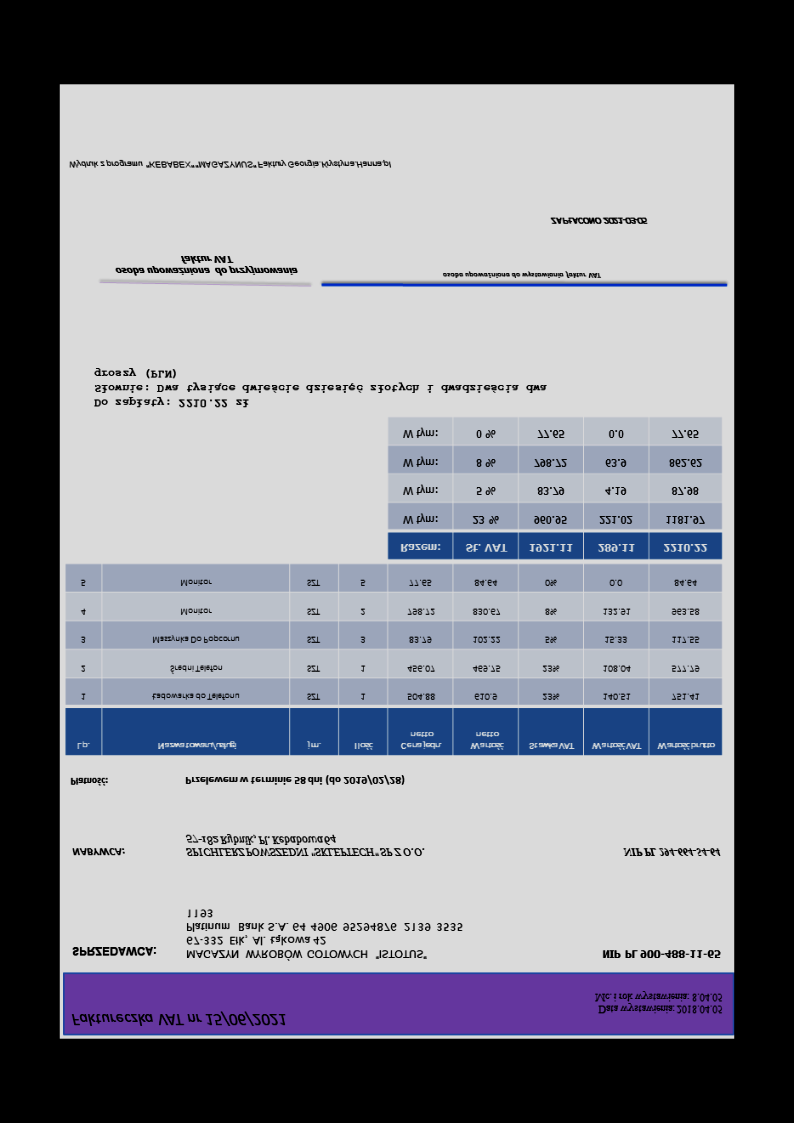Table: (64, 563, 723, 757), (387, 417, 723, 561)
TextBox: (92, 366, 550, 410), (184, 908, 465, 963), (184, 832, 427, 859), (113, 253, 300, 279), (66, 158, 394, 172), (70, 1011, 287, 1029), (593, 992, 724, 1018), (184, 774, 406, 786), (440, 270, 603, 281), (599, 947, 722, 961), (70, 944, 158, 961), (621, 845, 721, 859), (548, 214, 648, 228), (70, 846, 127, 859), (69, 774, 110, 789)
